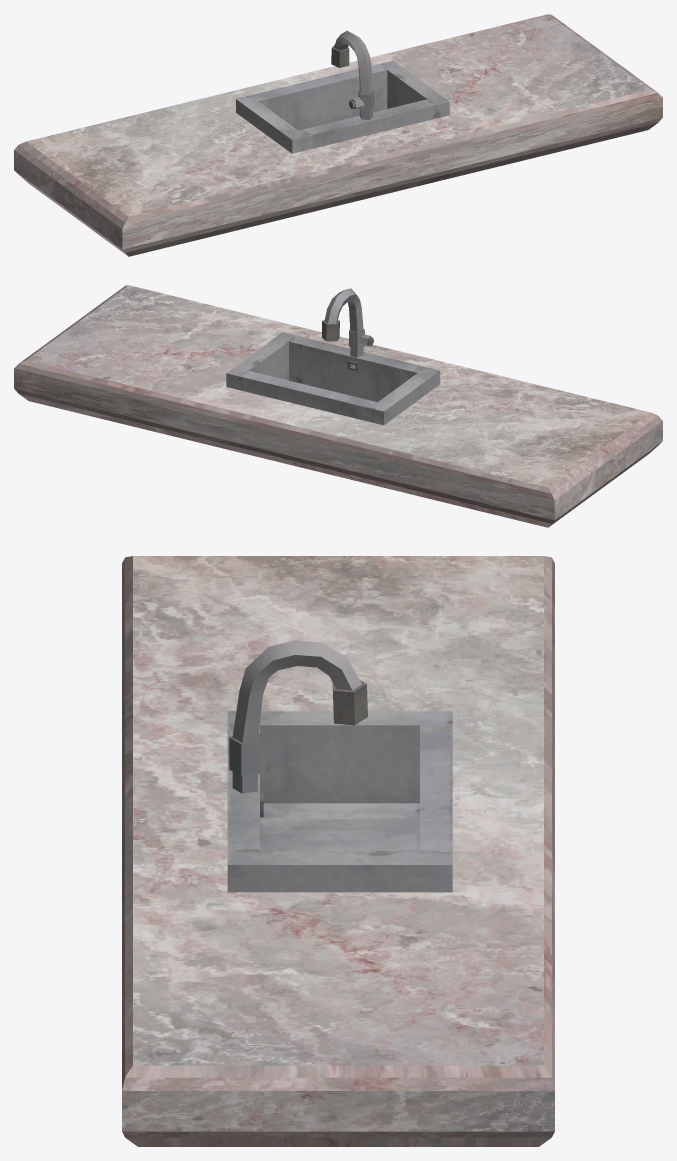
The model's file is Countertop_Kitchen_Sink.fbx.
The picture shows the model from 3 angles, top to bottom: view 1: azimuth 30°, elevation 25°; view 2: azimuth 150°, elevation 25°; view 3: azimuth 270°, elevation 25°; orthographic projection. The views are drawn at different scales.
Visible parts, largest first — view 1: Kitchen_Sink1; view 2: Kitchen_Sink1; view 3: Kitchen_Sink1.
Boxes of the visible parts, <box> form: Kitchen_Sink1: <box>14,14,662,256</box>; Kitchen_Sink1: <box>14,285,662,527</box>; Kitchen_Sink1: <box>122,556,554,1146</box>.
Size of the model in its own units: 274 by 62.25 by 94.86.
